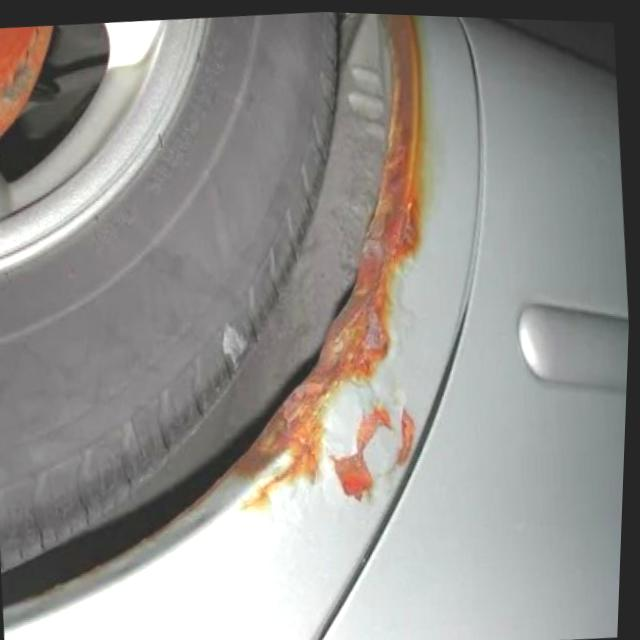Rust: (206, 14, 435, 516), (328, 398, 398, 503), (0, 24, 53, 135), (393, 406, 418, 466)
